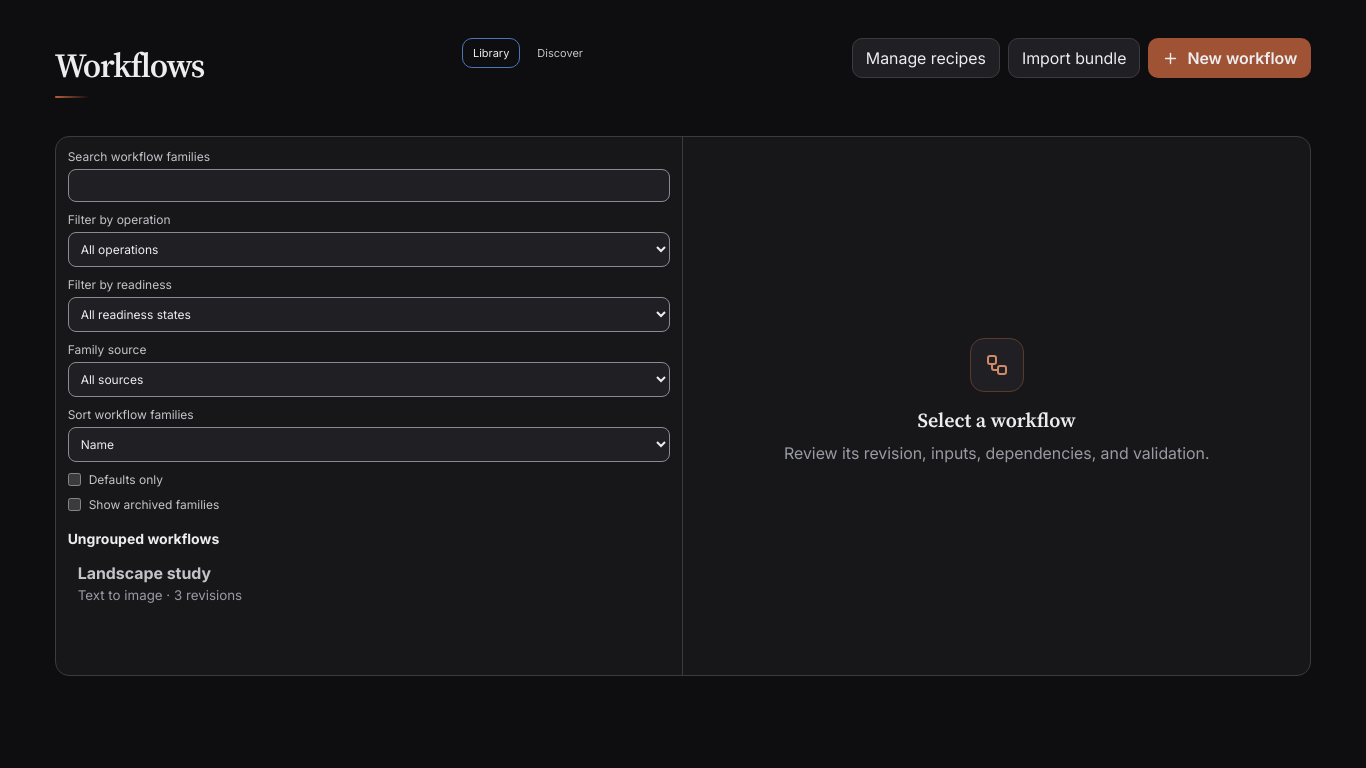
Test: workflow revision history › lists newest versions first with recorded creation dates and the actual current revision
Step 1. Click the text "Landscape study" → (144, 573), box x1=78 y1=563 x2=211 y2=583
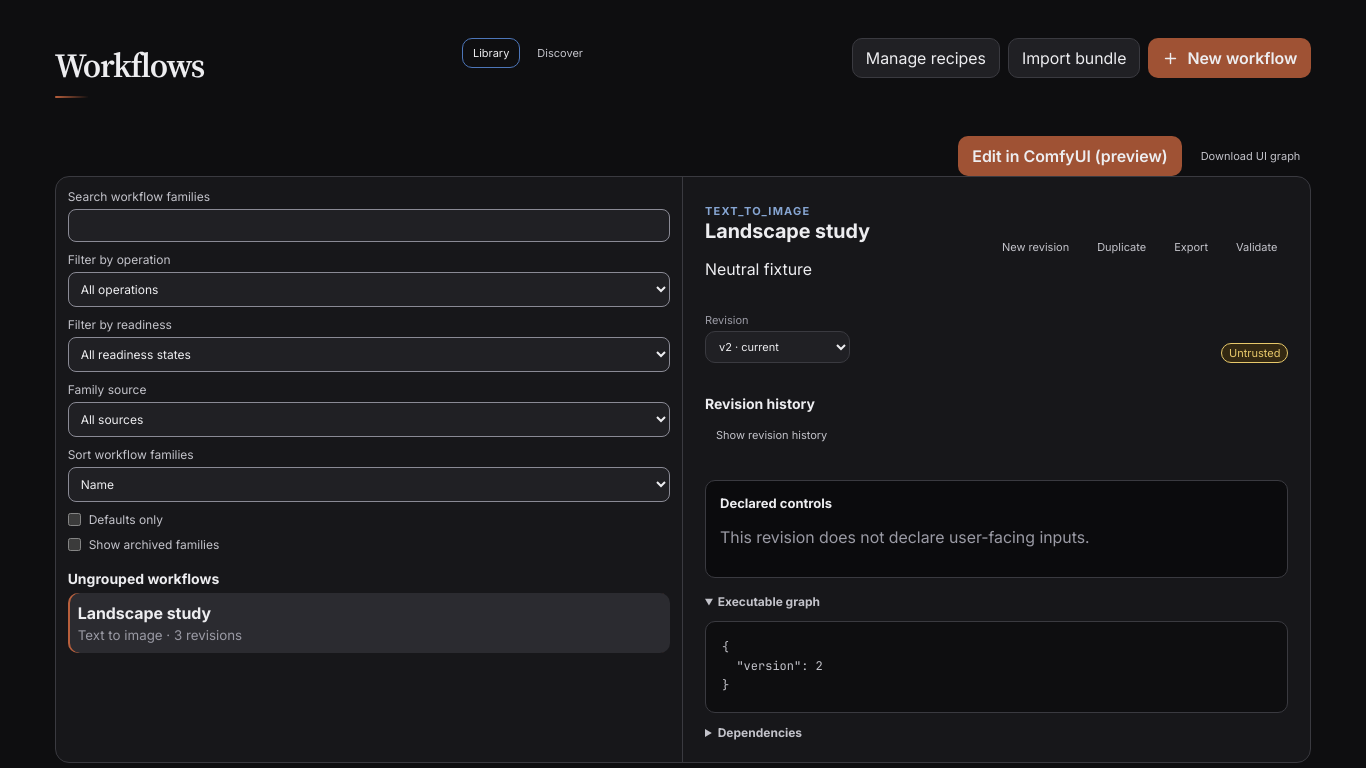
Expected: the button "New revision" is shown, x1=991 y1=232 x2=1080 y2=262
Step 2. Click the button "Show revision history" → (772, 435), box x1=705 y1=420 x2=838 y2=450
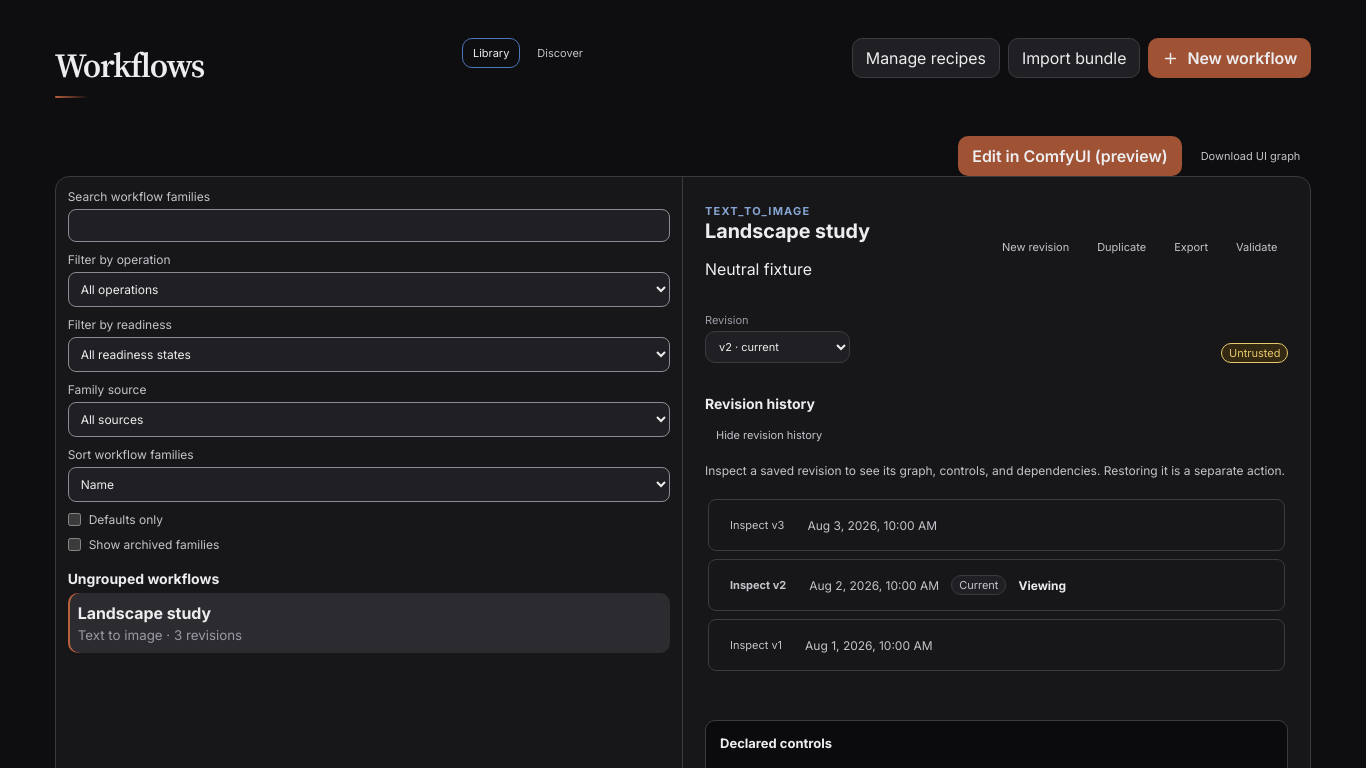
Expected: the text "Current" is shown, x1=951 y1=575 x2=1006 y2=595
